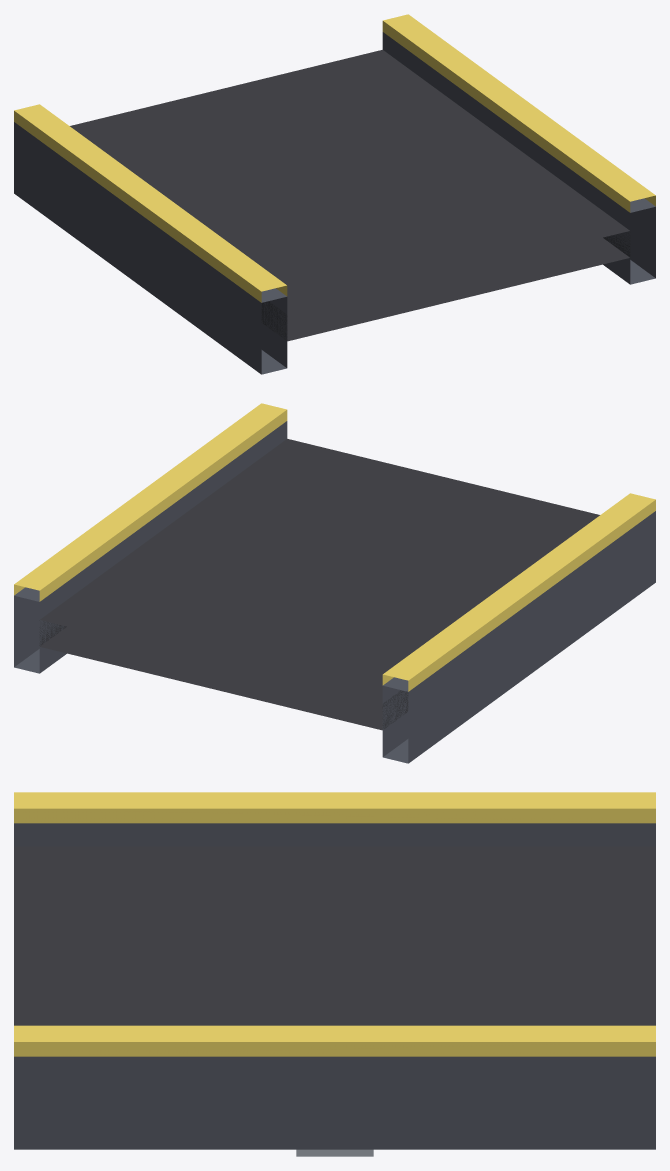
The model's file is esteira_reta.glb.
3 renders of one model, top to bottom at view 1: azimuth 30°, elevation 25°; view 2: azimuth 150°, elevation 25°; view 3: azimuth 270°, elevation 25°, orthographic. The views are drawn at different scales.
Visible parts, largest first — view 1: esteira_reta; view 2: esteira_reta; view 3: esteira_reta.
Boxes of the visible parts, left/top/right/bottom form: esteira_reta: left=14, top=14, right=655, bottom=374; esteira_reta: left=14, top=403, right=655, bottom=763; esteira_reta: left=14, top=792, right=655, bottom=1156.
Size of the model in its own units: 0.92 by 0.225 by 1.
